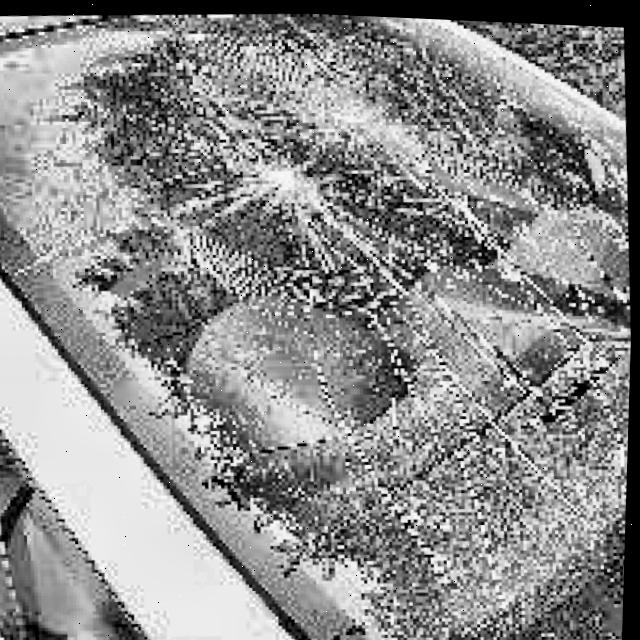glass_shatter: (194, 63, 428, 271)
